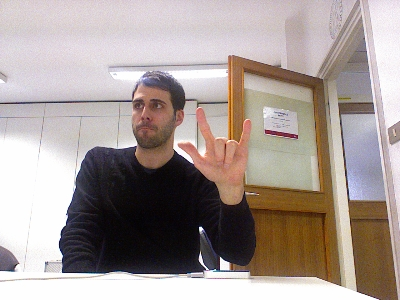我爱你: (176, 106, 251, 183)
